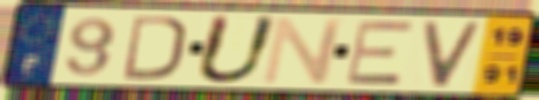9: (62, 16, 119, 77)
D: (120, 13, 188, 82)
E: (343, 20, 416, 87)
N: (258, 16, 347, 86)
U: (191, 12, 284, 86)
V: (421, 20, 486, 90)
